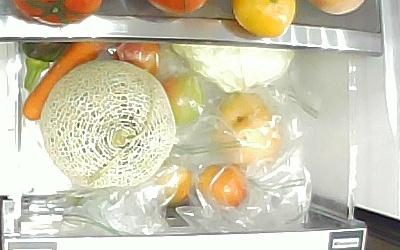cabbage: (173, 43, 295, 91)
carrot: (23, 42, 104, 120)
eggplant: (30, 41, 64, 61)
melon: (40, 59, 176, 189)
pear: (213, 93, 282, 165)
prune_vinyl: (198, 164, 247, 206), (111, 42, 161, 76)
tangerine_vinyl: (154, 165, 192, 204)
tomato_vinyl: (165, 73, 203, 126)
zucchini: (21, 39, 52, 92)
